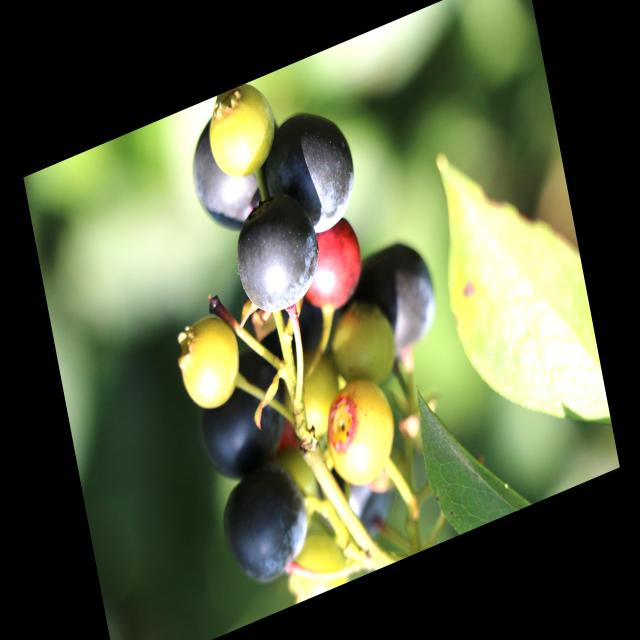blueberry: (250, 90, 369, 260), (183, 336, 300, 504), (182, 87, 298, 255), (212, 447, 321, 603), (222, 174, 330, 330), (336, 225, 446, 376), (312, 439, 399, 557)
blueberry-halfripe: (296, 214, 372, 326)
blueberry-unripe: (318, 371, 399, 495), (201, 75, 283, 190), (169, 302, 247, 419), (326, 296, 398, 401), (283, 354, 345, 454)
